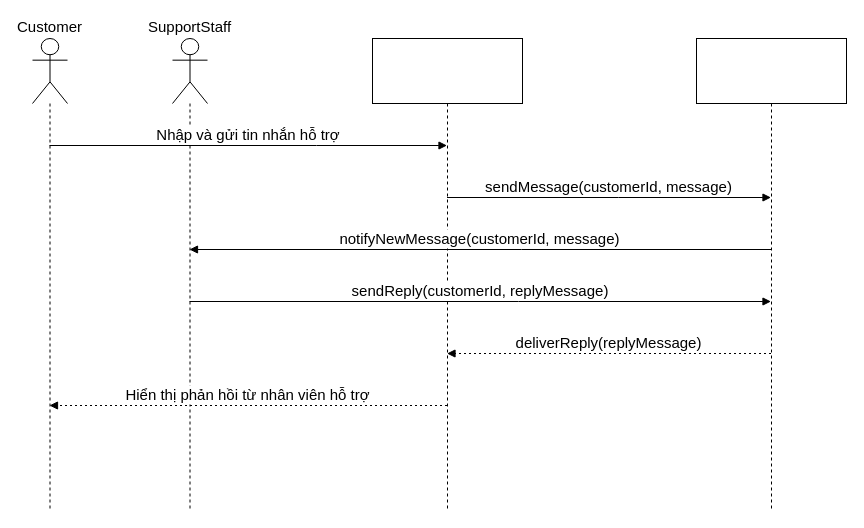
This 864x528 diagram has some shape labels left out. Each missing label, with the box of its shape:
ChatInterface: (372, 38, 522, 510)
SupportService: (696, 38, 846, 510)
